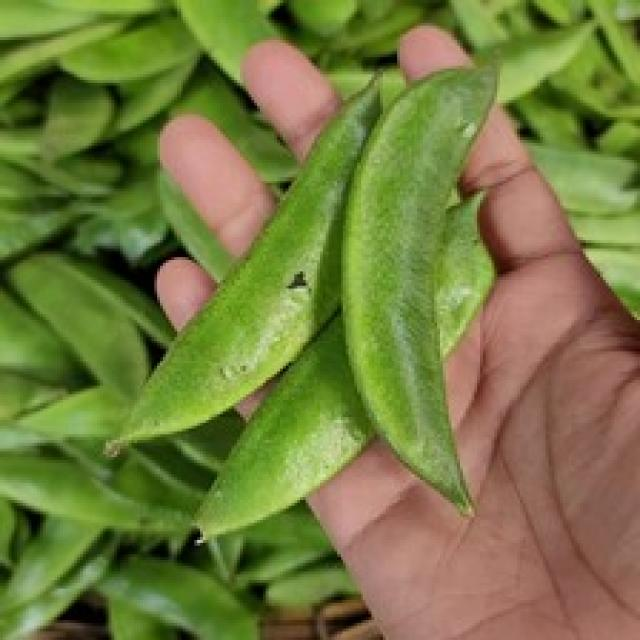Bean: (100, 69, 383, 457), (337, 57, 500, 517)
